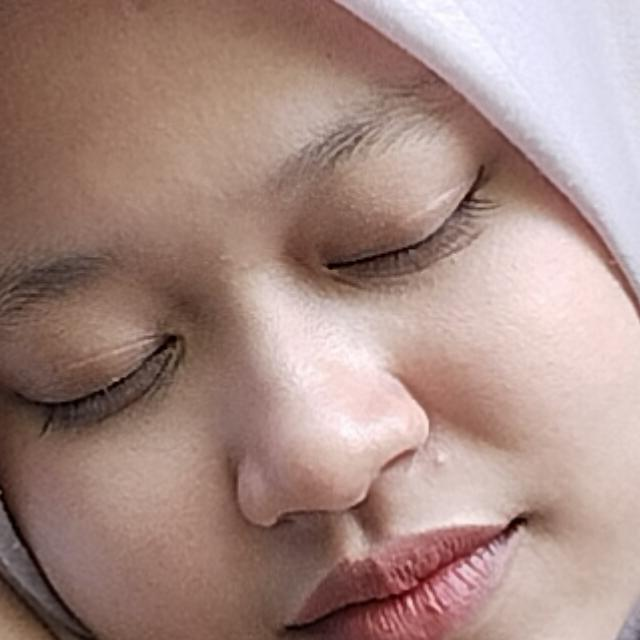tidur: (0, 288, 486, 640)
